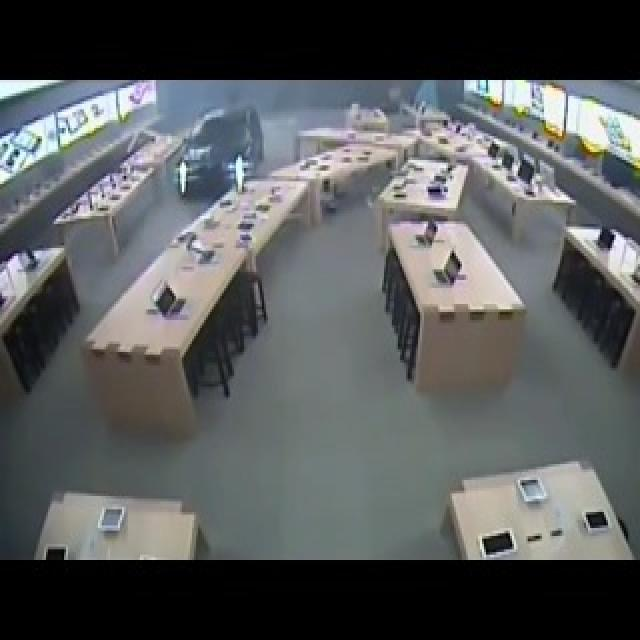burglary: (180, 93, 264, 215)
